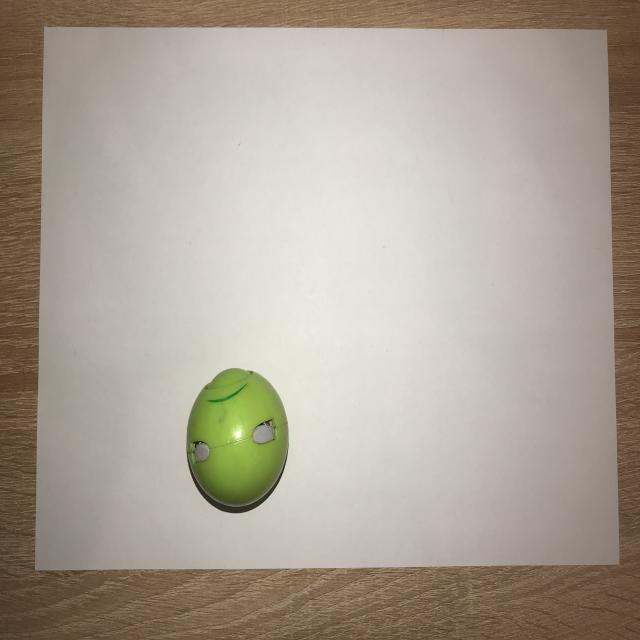toy: (182, 361, 296, 518)
